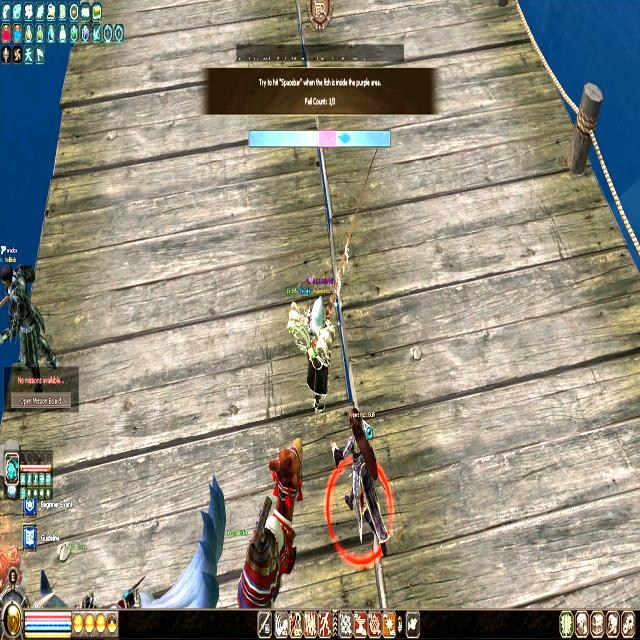fishes: (337, 132, 351, 146)
